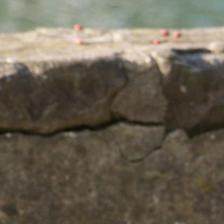Crack: (3, 111, 165, 148), (130, 119, 224, 164), (106, 64, 159, 119)
